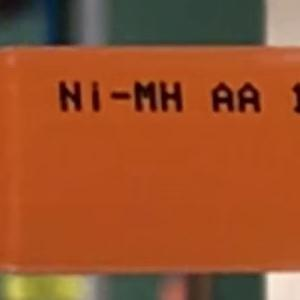NI-MH: (49, 72, 192, 121)
